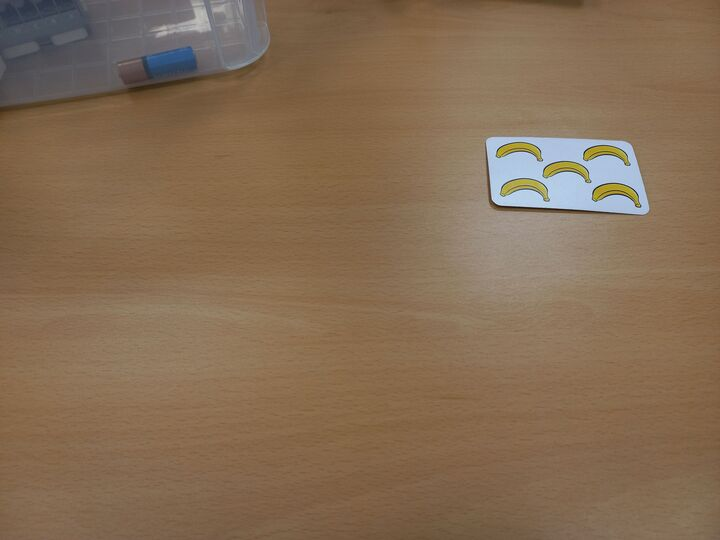banana5: (483, 133, 652, 216)
